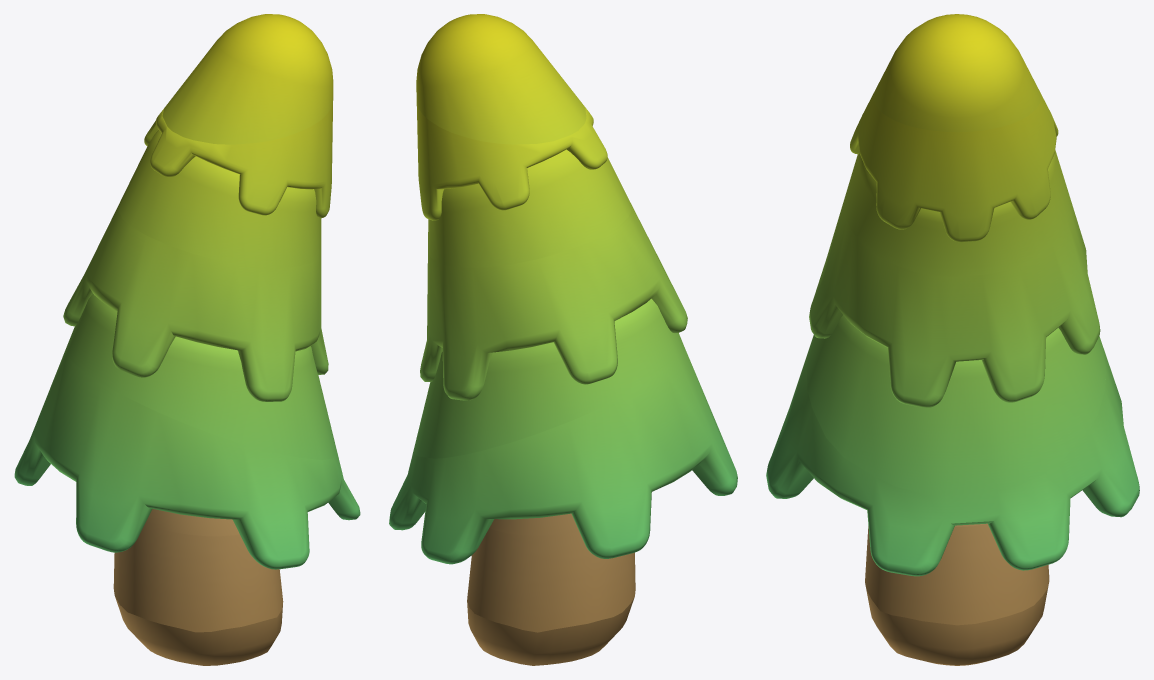
Rendered from New_Tree3.fbx.
3 renders of one model, left to right at view 1: azimuth 30°, elevation 25°; view 2: azimuth 150°, elevation 25°; view 3: azimuth 270°, elevation 25°, orthographic. The views are drawn at different scales.
Parts seen in each view (by area): view 1: Cylinder.004, Cylinder.005, Cylinder.003, Cylinder.002, Cylinder.006, Cylinder.001; view 2: Cylinder.004, Cylinder.005, Cylinder.003, Cylinder.002, Cylinder.006, Cylinder.001; view 3: Cylinder.004, Cylinder.003, Cylinder.005, Cylinder.002, Cylinder.006, Cylinder.001.
Boxes of the visible parts, <box> form: Cylinder.004: <box>63,206,336,459</box>; Cylinder.005: <box>14,350,360,569</box>; Cylinder.003: <box>118,103,332,267</box>; Cylinder.002: <box>162,14,333,144</box>; Cylinder.006: <box>113,524,283,632</box>; Cylinder.001: <box>115,597,282,665</box>; Cylinder.004: <box>414,202,687,458</box>; Cylinder.005: <box>389,347,737,564</box>; Cylinder.003: <box>416,102,631,267</box>; Cylinder.002: <box>416,14,586,144</box>; Cylinder.006: <box>467,528,635,632</box>; Cylinder.001: <box>467,597,634,665</box>; Cylinder.004: <box>806,193,1106,495</box>; Cylinder.003: <box>844,90,1069,276</box>; Cylinder.005: <box>766,344,1139,576</box>; Cylinder.002: <box>873,14,1040,132</box>; Cylinder.006: <box>865,524,1049,625</box>; Cylinder.001: <box>865,583,1048,665</box>.
Size of the model in its own units: 0.8544 by 1.74 by 0.8984.
